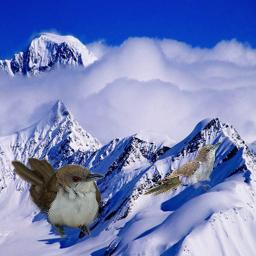Cuckoo: (11, 157, 105, 241), (142, 142, 222, 196)
